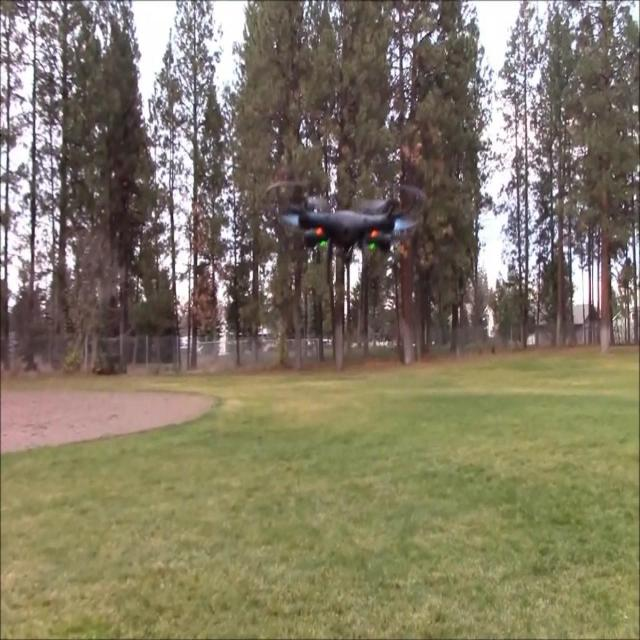UAV: (264, 181, 427, 257)
